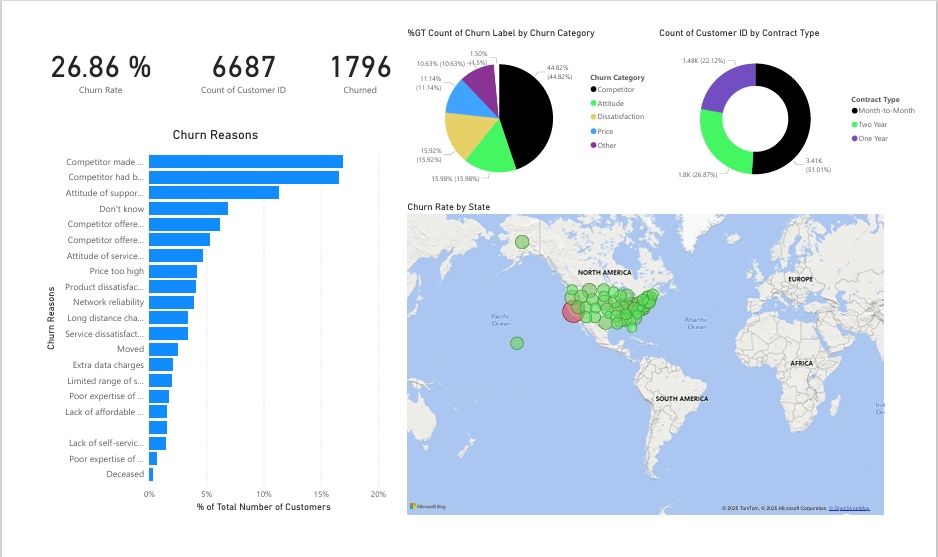

The dashboard page shown, as its layout file describes it:
{"tool":"powerbi","page":{"name":"Overview","canvas":[1640,960],"ordinal":0},"visuals":[{"type":"card","fields":{"Values":["Databel - Data.Churn Rate"]},"box":[48.9,37.1,211.2,123.2],"z":0},{"type":"card","fields":{"Values":["Count(Databel - Data.Customer ID)"]},"box":[307,37.1,211.2,123.2],"z":1000},{"type":"card","fields":{"Values":["Sum(Databel - Data.Churned)"]},"box":[518.1,37.1,211.2,123.2],"z":2000},{"type":"clusteredBarChart","title":"Churn Reasons","fields":{"Category":["Databel - Data.Churn Reason"],"Y":["CountNonNull(Databel - Data.Number of Customers in Group)"]},"box":[48.9,205.3,625.7,698],"z":3000},{"type":"donutChart","fields":{"Y":["Count(Databel - Data.Customer ID)"],"Category":["Databel - Data.Contract Type"]},"box":[1159.4,23.5,481,314.8],"z":4000},{"type":"pieChart","fields":{"Category":["Databel - Data.Churn Category"],"Y":["CountNonNull(Databel - Data.Churn Label)"]},"box":[703.9,23.5,455.6,312.8],"z":5000},{"type":"map","fields":{"Category":["Databel - Data.State"],"Size":["Databel - Data.Churn Rate"]},"box":[703.9,338.2,872,570.9],"z":6000}]}

Visuals, with their boxes in screenshot pixels (x1, y1, x2, y2), scaled from the page's 1640x960 canvas onto the 938x557 screenshot:
card - Databel - Data.Churn Rate: [left=28, top=22, right=149, bottom=93]
card - Count(Databel - Data.Customer ID): [left=176, top=22, right=296, bottom=93]
card - Sum(Databel - Data.Churned): [left=296, top=22, right=417, bottom=93]
"Churn Reasons" clusteredBarChart: [left=28, top=119, right=386, bottom=524]
donutChart - Count(Databel - Data.Customer ID) x Databel - Data.Contract Type: [left=663, top=14, right=937, bottom=196]
pieChart - Databel - Data.Churn Category x CountNonNull(Databel - Data.Churn Label): [left=403, top=14, right=663, bottom=195]
map - Databel - Data.State x Databel - Data.Churn Rate: [left=403, top=196, right=901, bottom=527]
